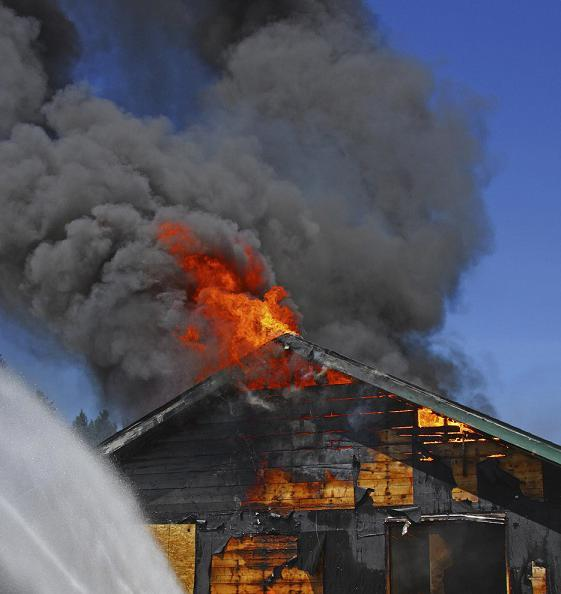Fire: (147, 217, 354, 398), (410, 401, 484, 439)
